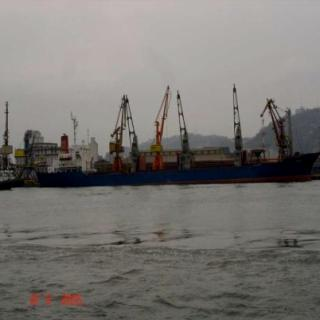Bulk Carrier: (53, 86, 320, 184)
